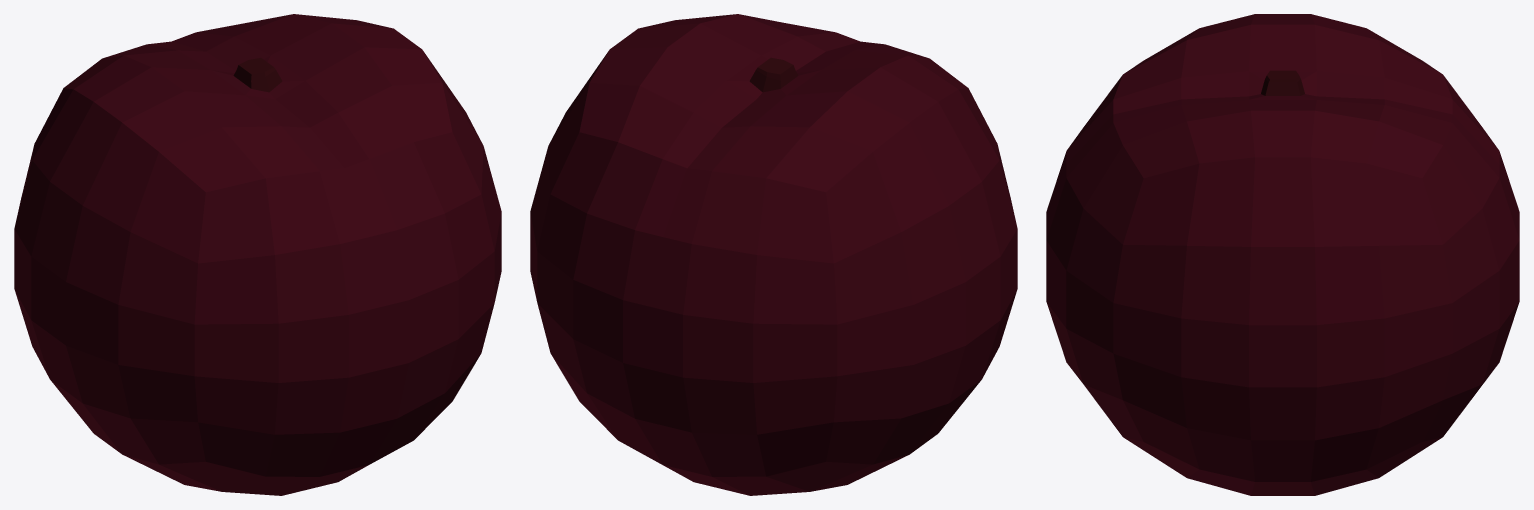
File: Plum_01.fbx
The picture shows the model from 3 angles, left to right: view 1: azimuth 30°, elevation 25°; view 2: azimuth 150°, elevation 25°; view 3: azimuth 270°, elevation 25°; orthographic projection. The views are drawn at different scales.
Parts seen in each view (by area): view 1: Plum_01; view 2: Plum_01; view 3: Plum_01.
Part boxes in pixels (x1=…): Plum_01: x1=14, y1=14, x2=501, y2=495; Plum_01: x1=530, y1=14, x2=1017, y2=495; Plum_01: x1=1046, y1=14, x2=1519, y2=495.
Size of the model in its own units: 5.13 by 4.83 by 5.13.
